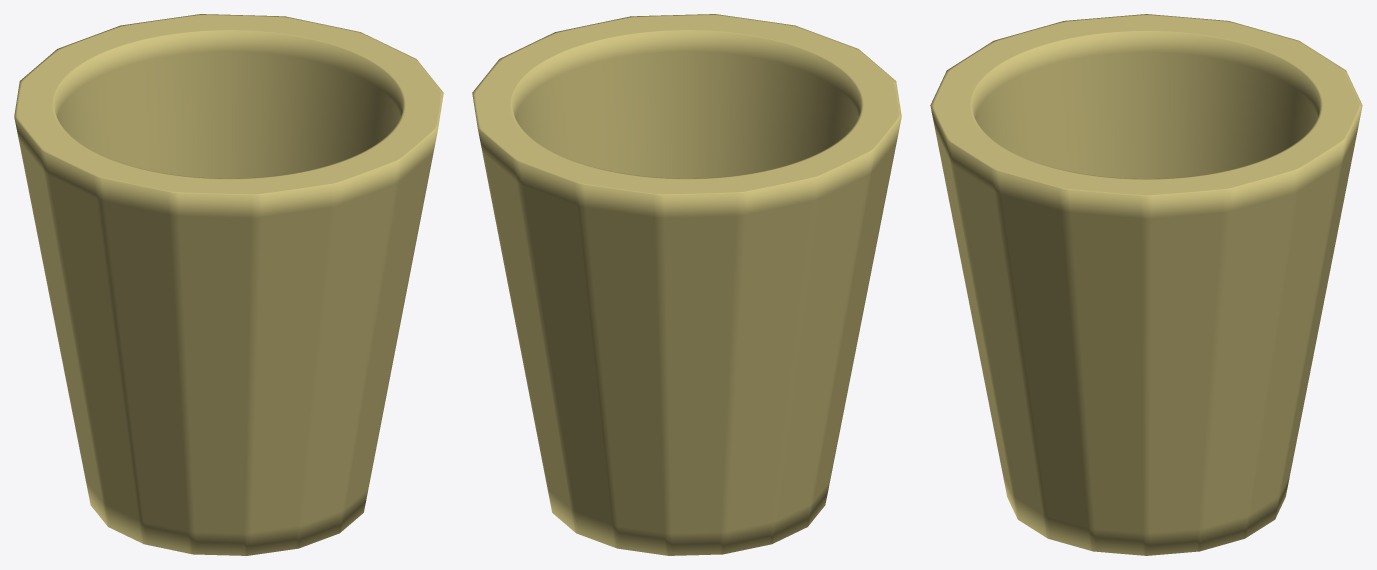
Rendered from Mülleimer.fbx.
3 views of the same model, side by side, from view 1: azimuth 30°, elevation 25°; view 2: azimuth 150°, elevation 25°; view 3: azimuth 270°, elevation 25° (orthographic).
Parts seen in each view (by area): view 1: Mülleimer; view 2: Mülleimer; view 3: Mülleimer.
Boxes of the visible parts, bbox=[...] form: Mülleimer: bbox=[14, 14, 443, 555]; Mülleimer: bbox=[472, 14, 901, 555]; Mülleimer: bbox=[930, 14, 1362, 555].
Bounding box in the file's own units: 200 × 200 × 200.
